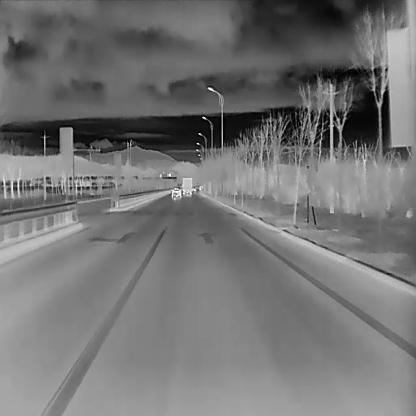car: (170, 186, 182, 198)
truck: (181, 176, 192, 193)
